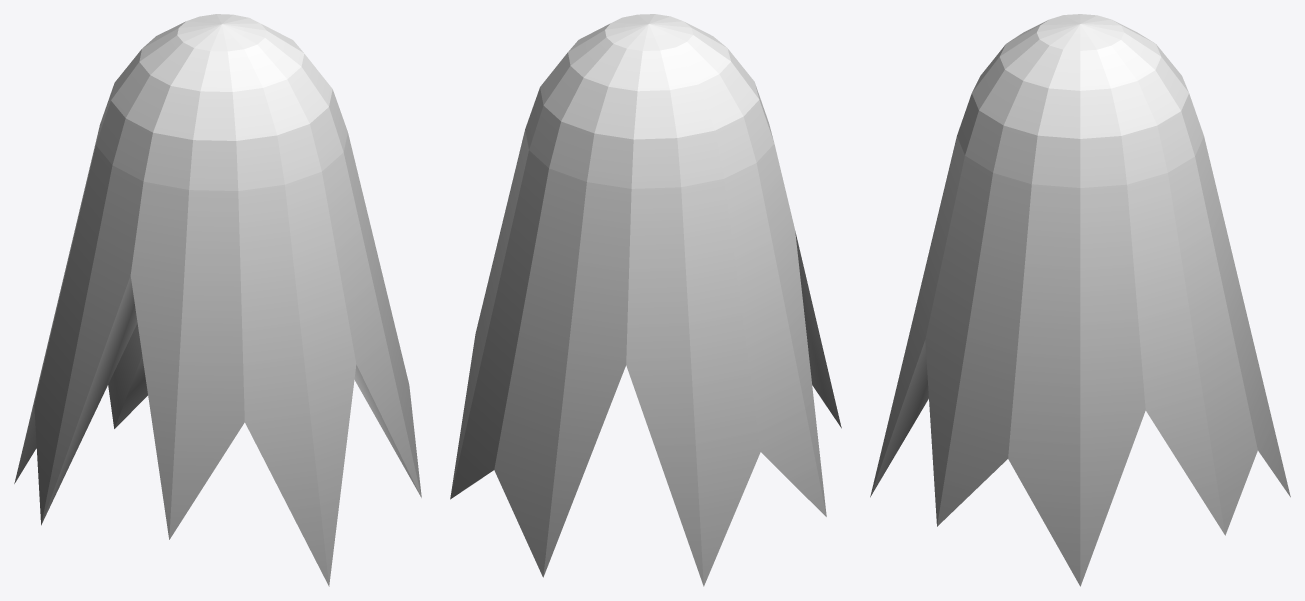
Rendered from ETFX_Rocket.FBX.
The picture shows the model from 3 angles, left to right: view 1: azimuth 30°, elevation 25°; view 2: azimuth 150°, elevation 25°; view 3: azimuth 270°, elevation 25°; orthographic projection. The views are drawn at different scales.
Parts seen in each view (by area): view 1: ETFX_Rocket; view 2: ETFX_Rocket; view 3: ETFX_Rocket.
Boxes of the visible parts, bbox=[...] form: ETFX_Rocket: bbox=[14, 14, 421, 586]; ETFX_Rocket: bbox=[450, 14, 841, 586]; ETFX_Rocket: bbox=[870, 14, 1290, 586].
Size of the model in its own units: 33.49 by 42.24 by 33.99.
